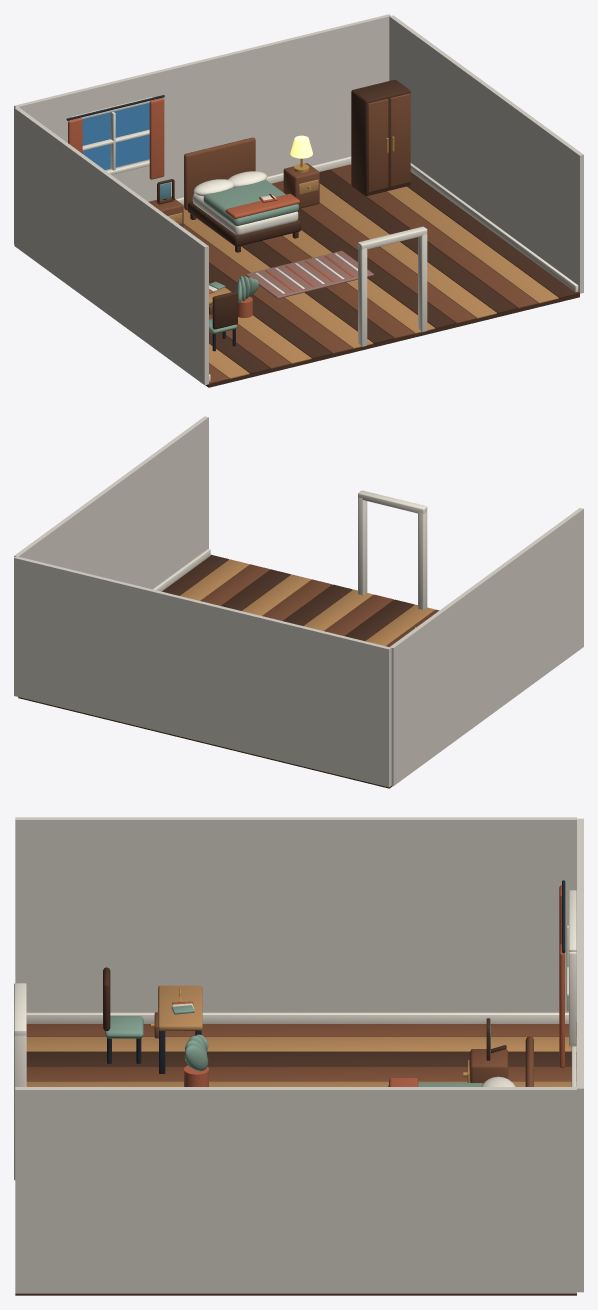
File: cozy_bedroom.glb
3 views of the same model, one above another, from view 1: azimuth 30°, elevation 25°; view 2: azimuth 150°, elevation 25°; view 3: azimuth 270°, elevation 25° (orthographic). The views are drawn at different scales.
Parts seen in each view (by area): view 1: Wall_Back, Wall_Left, Wall_Right, Floor_Plank_15, Floor_Plank_16, Floor_Plank_17, Floor_Plank_14, Window_Glass, Floor_Plank_13, Floor_Plank_18, Wardrobe_Carcass, Rug_Main (+27 smaller); view 2: Wall_Back, Wall_Left, Wall_Right, Floor_Plank_12, Floor_Plank_14, Floor_Plank_16, Floor_Plank_10, Floor_Plank_09, Floor_Plank_15, Floor_Plank_13, Floor_Plank_17, Floor_Plank_08 (+7 smaller); view 3: Wall_Right, Wall_Left, Floor_Plank_04, Floor_Plank_03, Floor_Plank_02, Floor_Plank_01, Trim_Left, Wall_Back, Floor_Plank_05, Desk_Top, Room_FloorSlab, Nightstand_Left_Body (+5 smaller).
Boxes of the visible parts, x1,y1,x2,y2 form: Wall_Back: (14, 14, 390, 243); Wall_Left: (14, 107, 208, 385); Wall_Right: (389, 15, 583, 293); Floor_Plank_15: (319, 169, 517, 313); Floor_Plank_16: (330, 164, 538, 308); Floor_Plank_17: (350, 164, 558, 303); Floor_Plank_14: (319, 183, 496, 318); Window_Glass: (82, 103, 149, 169); Floor_Plank_13: (271, 181, 476, 323); Floor_Plank_18: (407, 172, 579, 298); Wardrobe_Carcass: (351, 79, 410, 195); Rug_Main: (245, 250, 373, 298); Wall_Back: (14, 556, 391, 787); Wall_Left: (390, 508, 583, 785); Wall_Right: (14, 416, 208, 589); Floor_Plank_12: (283, 584, 352, 625); Floor_Plank_14: (242, 574, 311, 615); Floor_Plank_16: (200, 564, 270, 605); Floor_Plank_10: (324, 594, 393, 635); Floor_Plank_09: (345, 599, 414, 640); Floor_Plank_15: (221, 569, 290, 610); Floor_Plank_13: (262, 579, 331, 620); Floor_Plank_17: (180, 559, 249, 600); Floor_Plank_08: (365, 604, 435, 646); Wall_Right: (15, 1087, 576, 1293); Wall_Left: (15, 817, 576, 1021); Floor_Plank_04: (26, 1066, 576, 1081); Floor_Plank_03: (26, 1051, 576, 1066); Floor_Plank_02: (26, 1037, 576, 1051); Floor_Plank_01: (26, 1022, 576, 1036); Trim_Left: (26, 1012, 568, 1023); Wall_Back: (577, 818, 583, 1292); Floor_Plank_05: (26, 1081, 576, 1086); Desk_Top: (158, 985, 202, 1030); Room_FloorSlab: (15, 1293, 576, 1295); Nightstand_Left_Body: (470, 1049, 508, 1083).
Size of what is drawn, in the model's own units: 9.2 by 3.28 by 8.12.
